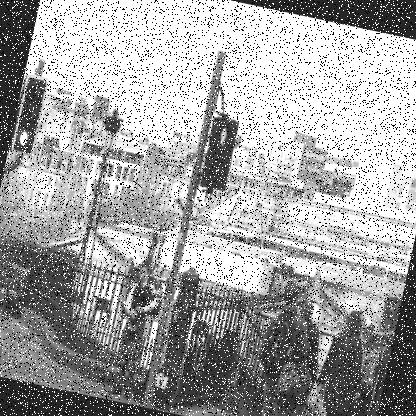Car: (0, 276, 18, 376)
